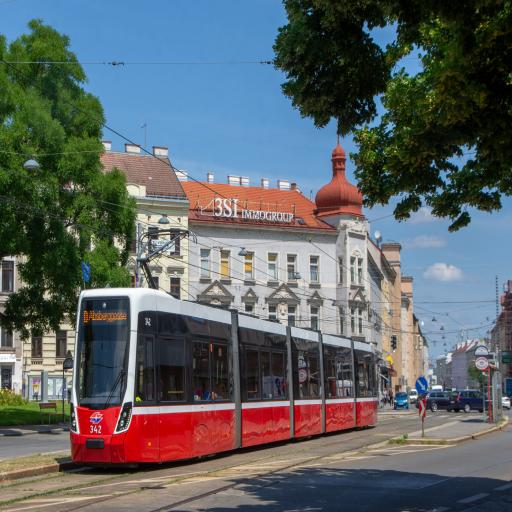Flexity: (71, 284, 377, 465)
